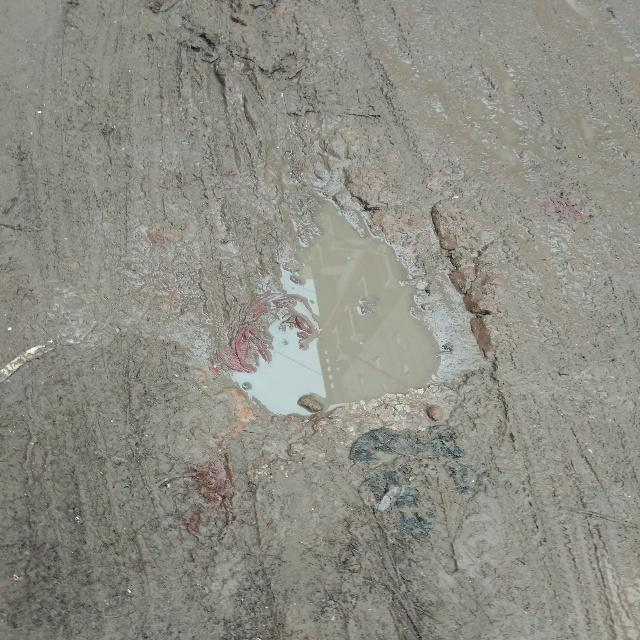Pothole: (274, 209, 468, 396)
Surface Erosion: (0, 3, 640, 640)
